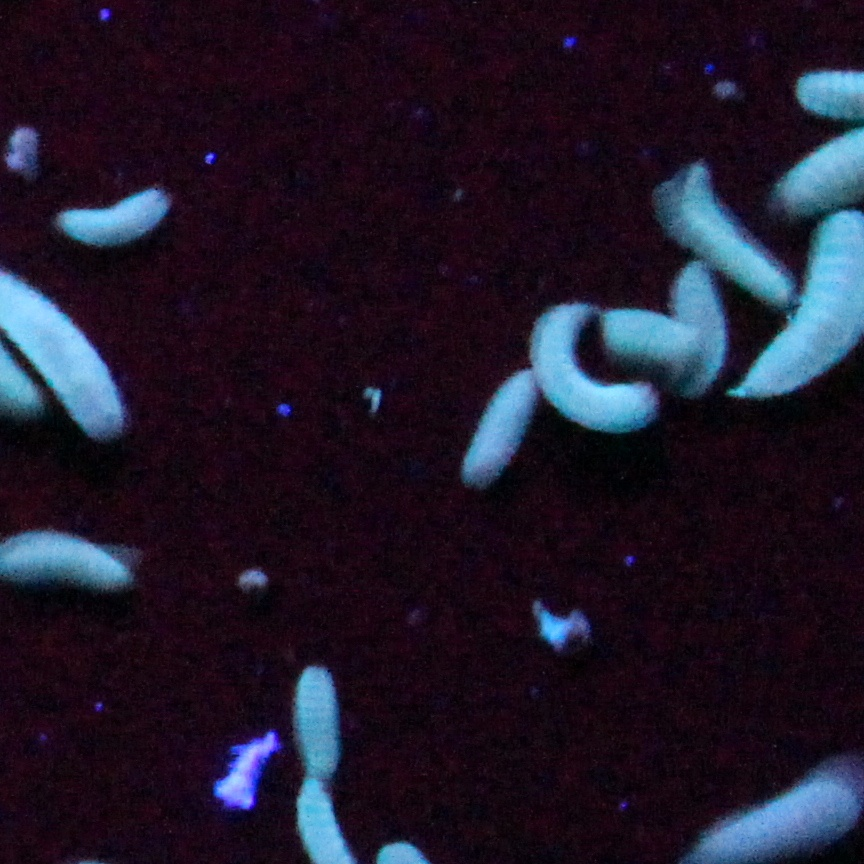larve: (667, 178, 800, 312), (540, 312, 660, 445), (734, 278, 840, 405), (53, 181, 173, 245), (467, 378, 520, 485), (294, 672, 340, 785)
